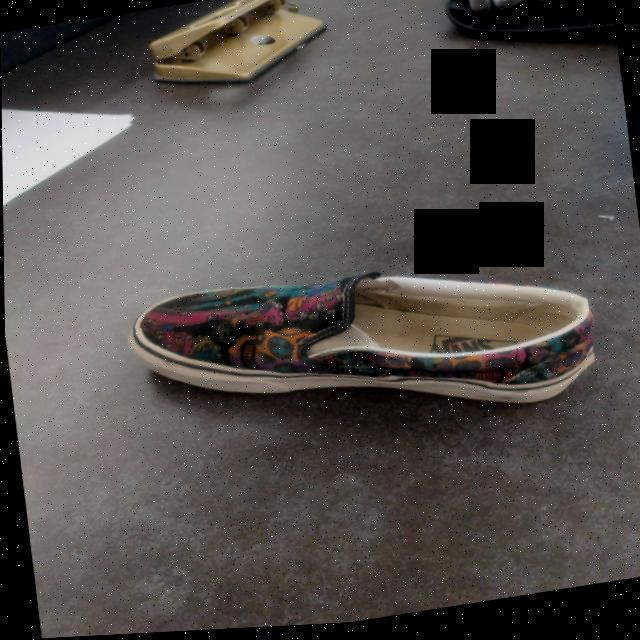shoe: (121, 235, 598, 467)
